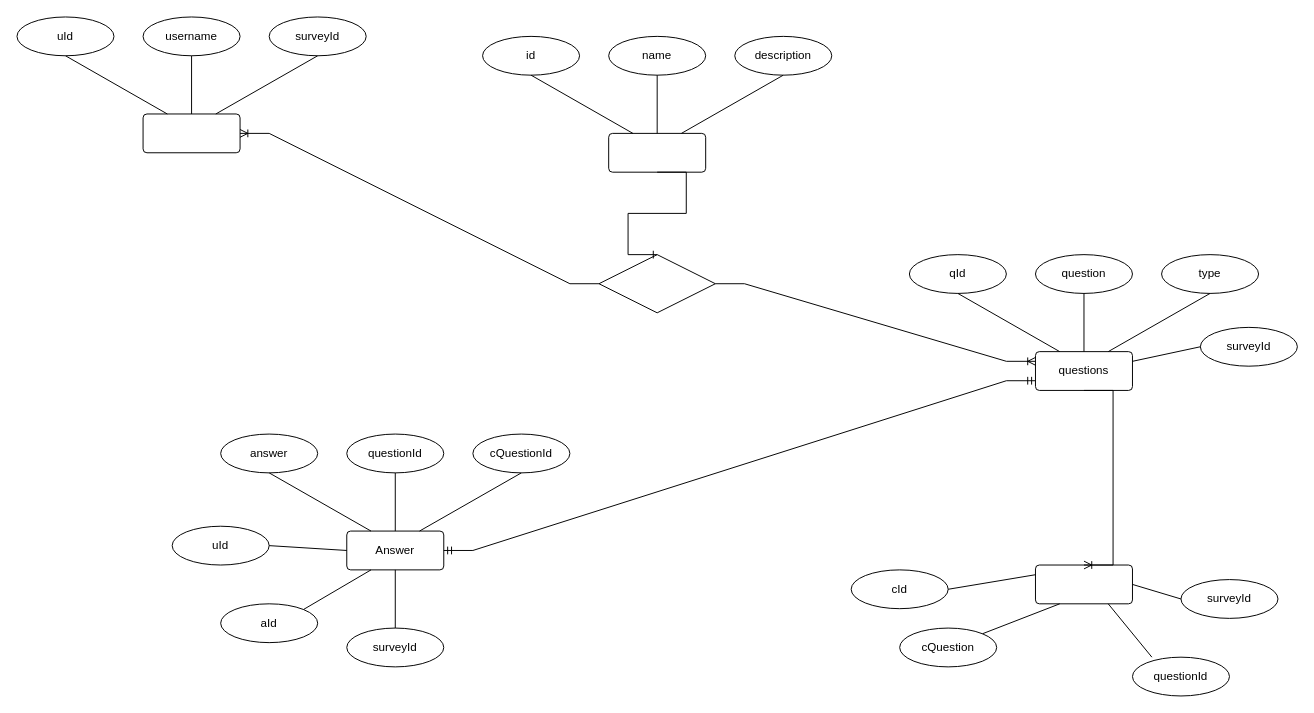
Some shapes in this 1314 by 713 pixel diagram are drawn without their labels. The centre of each missing label's shape, as x and y in pixels:
"Has" belongs at pixel 656 283.
"questionChoices" belongs at pixel 1083 584.
"surveyList" belongs at pixel 657 152.
"user" belongs at pixel 191 133.
